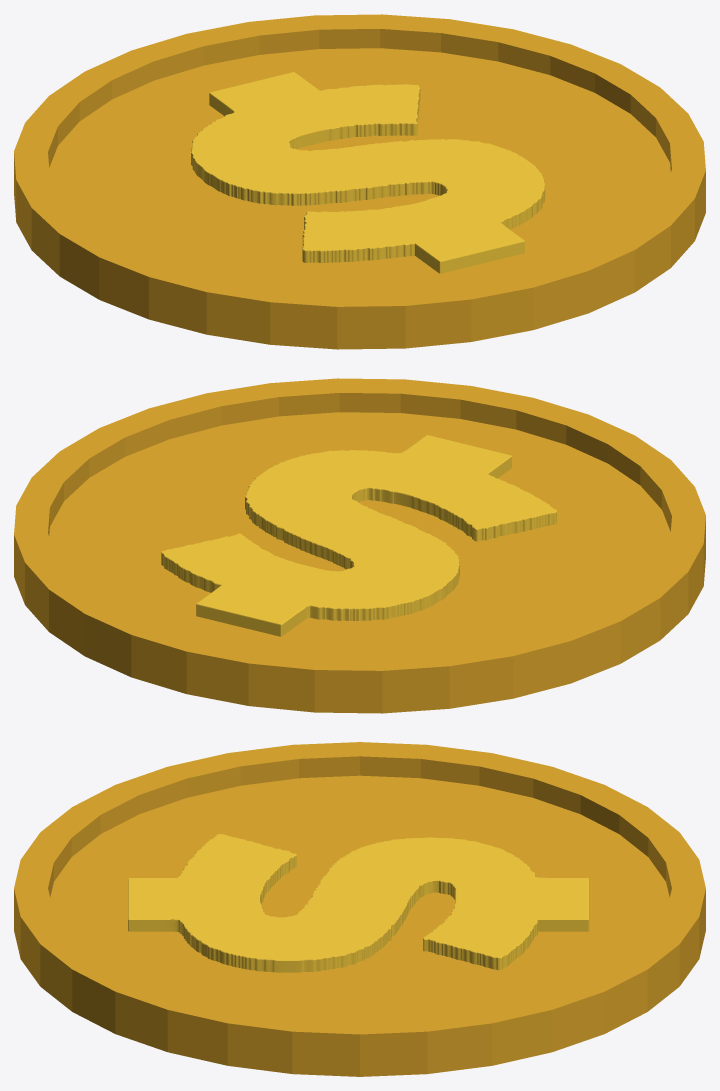
File: coin.fbx
3 views of the same model, one above another, from view 1: azimuth 30°, elevation 25°; view 2: azimuth 150°, elevation 25°; view 3: azimuth 270°, elevation 25° (orthographic).
Visible parts, largest first — view 1: Cylinder, Curve; view 2: Cylinder, Curve; view 3: Cylinder, Curve.
Boxes of the visible parts, box(x1,y1,x2,y2) form: Cylinder: box(14, 14, 705, 349); Curve: box(191, 72, 545, 273); Cylinder: box(14, 378, 705, 713); Curve: box(161, 435, 556, 636); Cylinder: box(14, 742, 705, 1076); Curve: box(128, 834, 589, 972).
Bounding box in the file's own units: 451 × 30.52 × 451.
